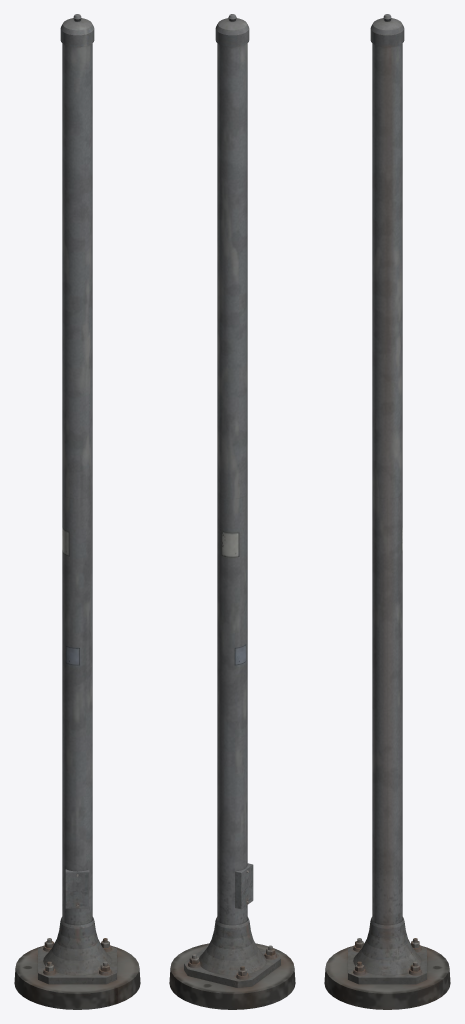
File: pedestalPole-v1-galvanised.glb
The picture shows the model from 3 angles, left to right: view 1: azimuth 90°, elevation 25°; view 2: azimuth 150°, elevation 25°; view 3: azimuth 270°, elevation 25°; orthographic projection.
Parts seen in each view (by area): view 1: pedestalPole-v1-galvanised; view 2: pedestalPole-v1-galvanised; view 3: pedestalPole-v1-galvanised.
Part boxes in pixels (<box>): pedestalPole-v1-galvanised: <box>14,14,140,1009</box>; pedestalPole-v1-galvanised: <box>169,14,295,1009</box>; pedestalPole-v1-galvanised: <box>324,14,450,1009</box>.
Size of the model in its own units: 0.48 by 4.07 by 0.48.
1 material, 1 textured.
